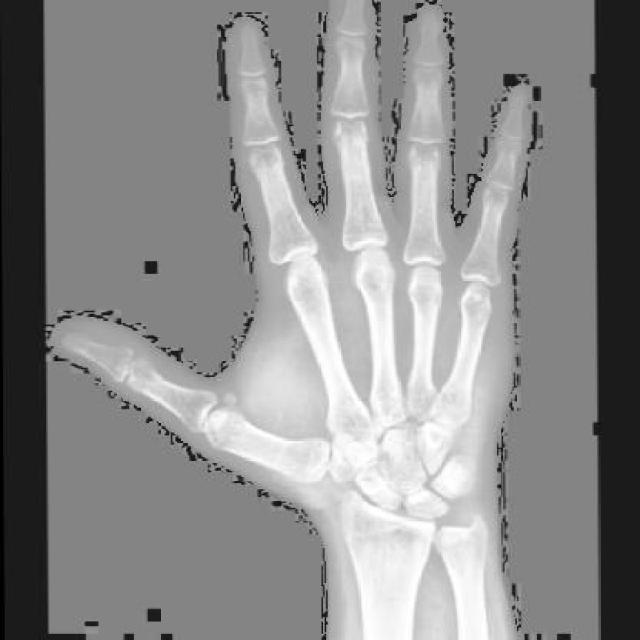Fracture: (367, 473, 390, 499)
